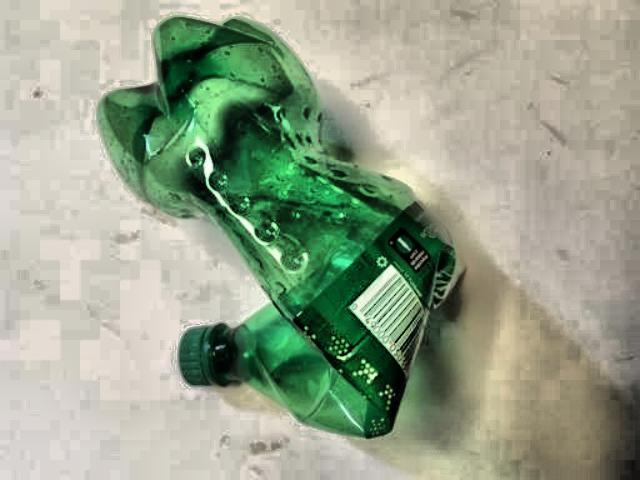Bottles: (59, 8, 483, 454)
